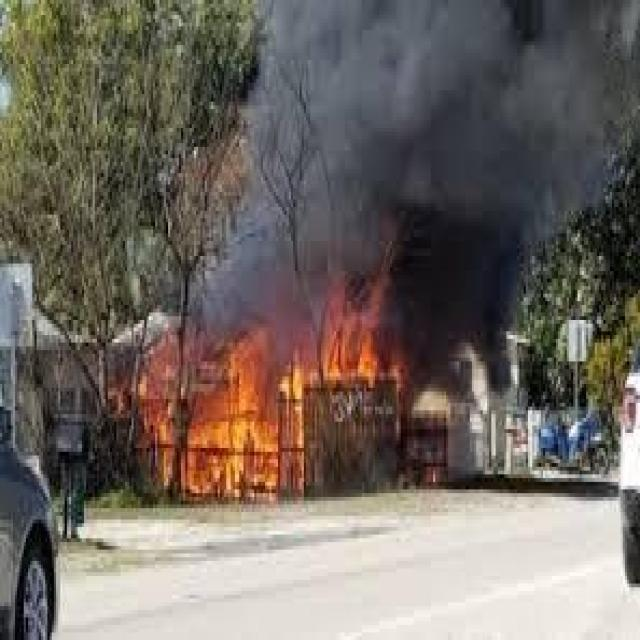Fire: (140, 301, 386, 491)
Smoke: (187, 0, 622, 298)
